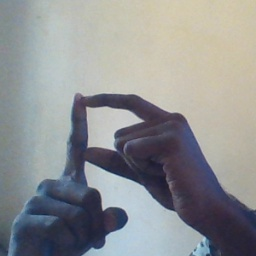D: (49, 85, 186, 210)
